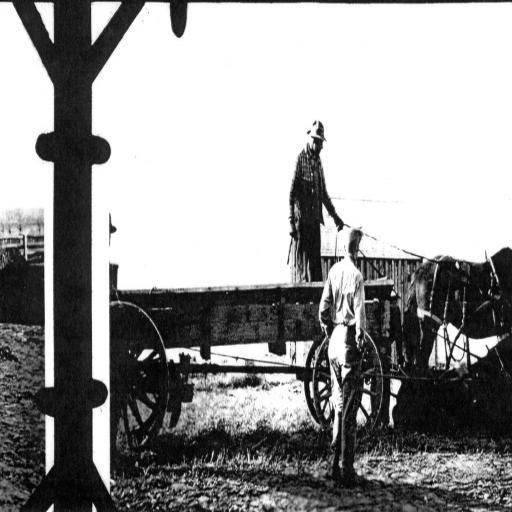horse: (401, 246, 512, 374)
